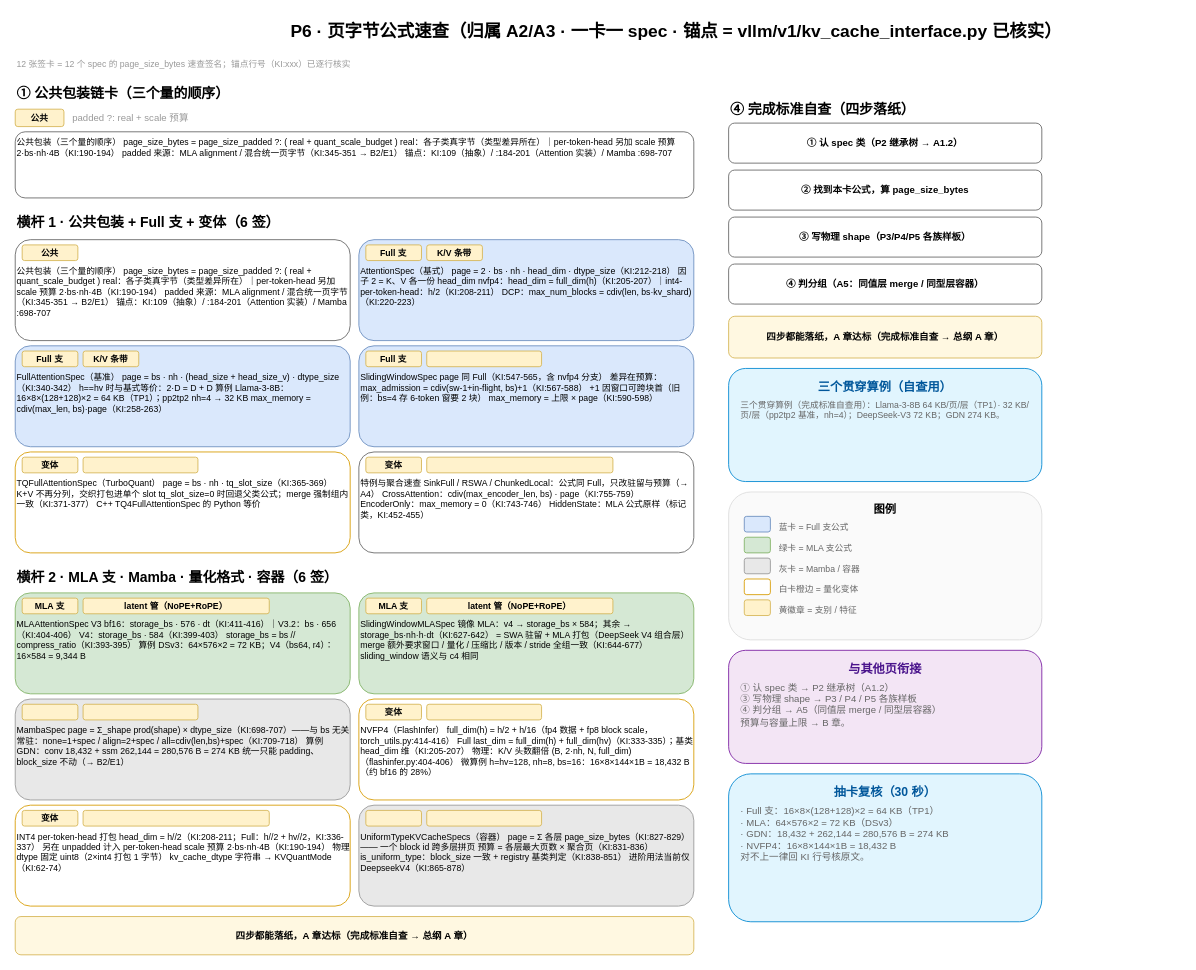
This 1196x970 diagram has some shape labels left out. Here are the shapes that lost their labels. From the top down, the centre of each, then its label:
At [484,358]: "窗口=常驻，窗外可释放".
At [140,464]: "K/V 交织单 slot".
At [519,464]: "金=Sink 头 / 灰=无缓存".
At [49,711]: "Mamba".
At [140,711]: "状态环（与 bs 无关）".
At [484,711]: "h/2 + h/16 打包".
At [175,818]: "半宽打包 + fp32 scale".
At [393,818]: "容器".
At [484,818]: "page = Σ 各层".
